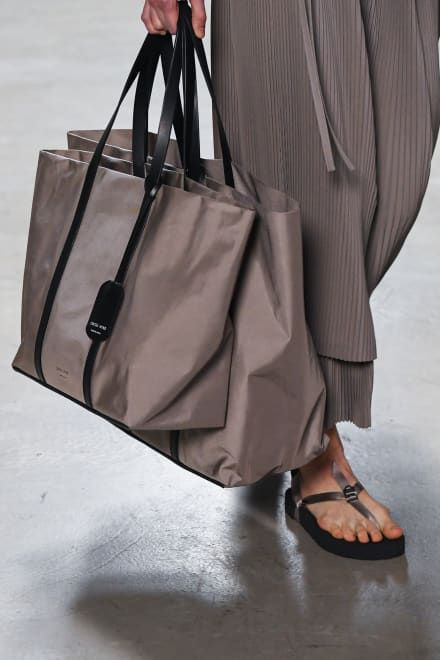nylon: (12, 1, 330, 489)
